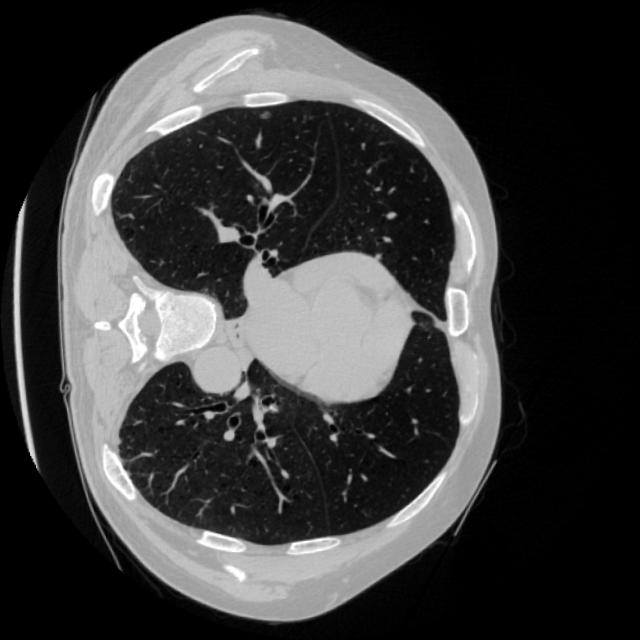nodule: (254, 102, 277, 125)
